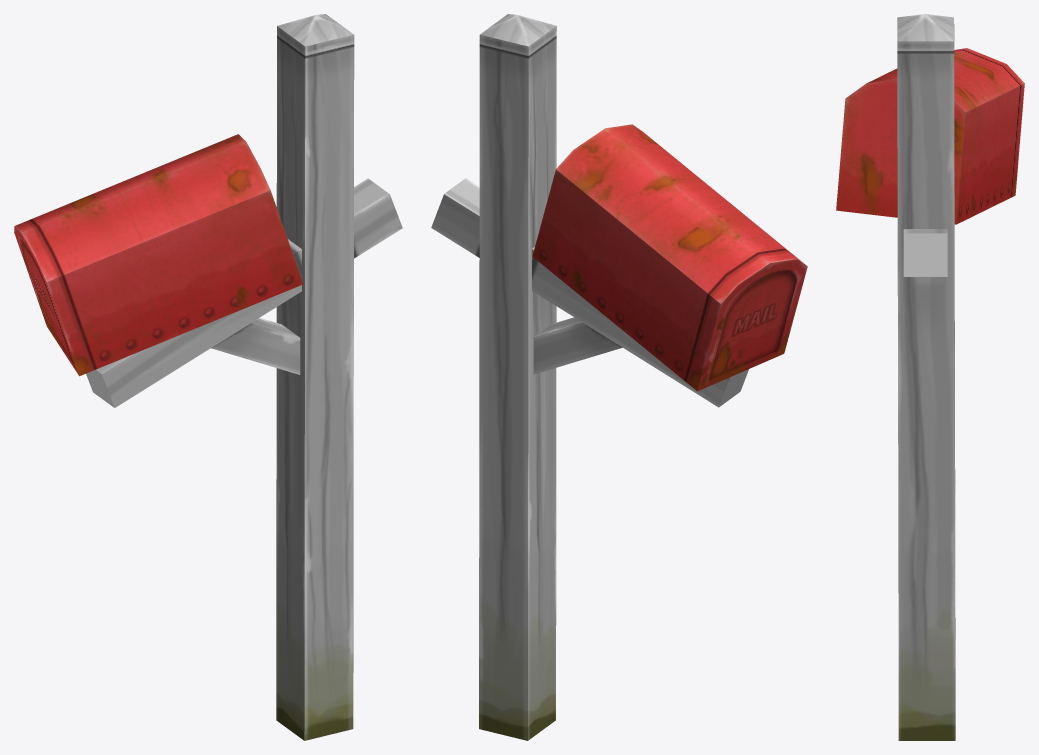
Rendered from mailBox01_B.fbx.
3 views of the same model, side by side, from view 1: azimuth 30°, elevation 25°; view 2: azimuth 150°, elevation 25°; view 3: azimuth 270°, elevation 25° (orthographic).
Visible parts, largest first — view 1: mailBox01_B; view 2: mailBox01_B; view 3: mailBox01_B.
Boxes of the visible parts, left/top/right/bottom form: mailBox01_B: left=14, top=14, right=402, bottom=740; mailBox01_B: left=431, top=14, right=807, bottom=740; mailBox01_B: left=836, top=14, right=1024, bottom=740.
Size of the model in its own units: 72.7 by 139 by 33.18.
